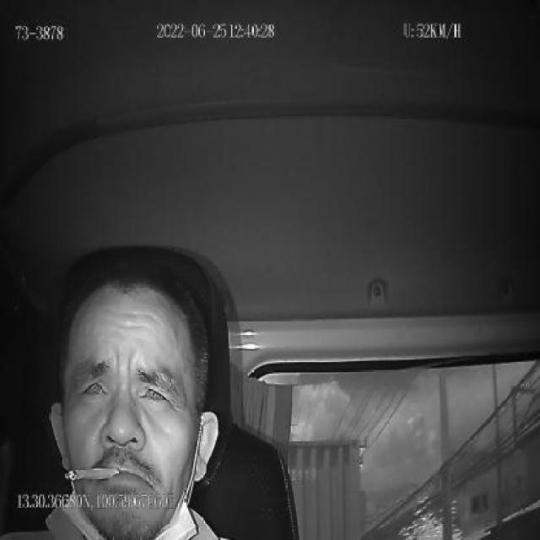smoking: (64, 465, 119, 482)
